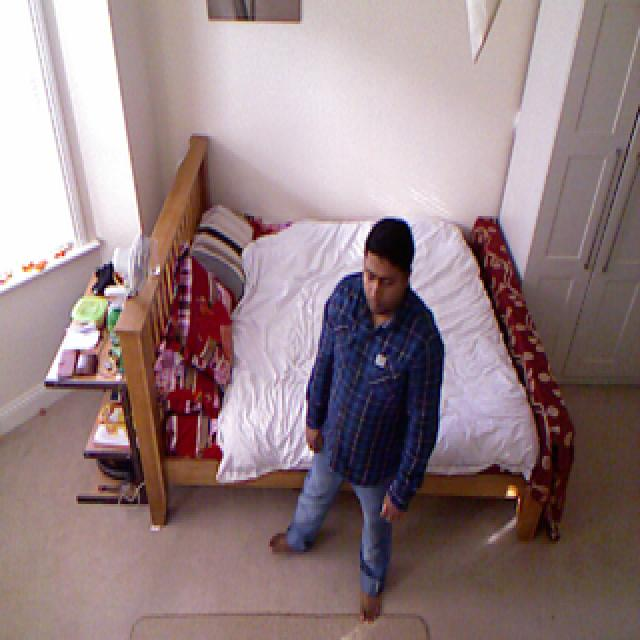standing: (268, 219, 446, 623)
